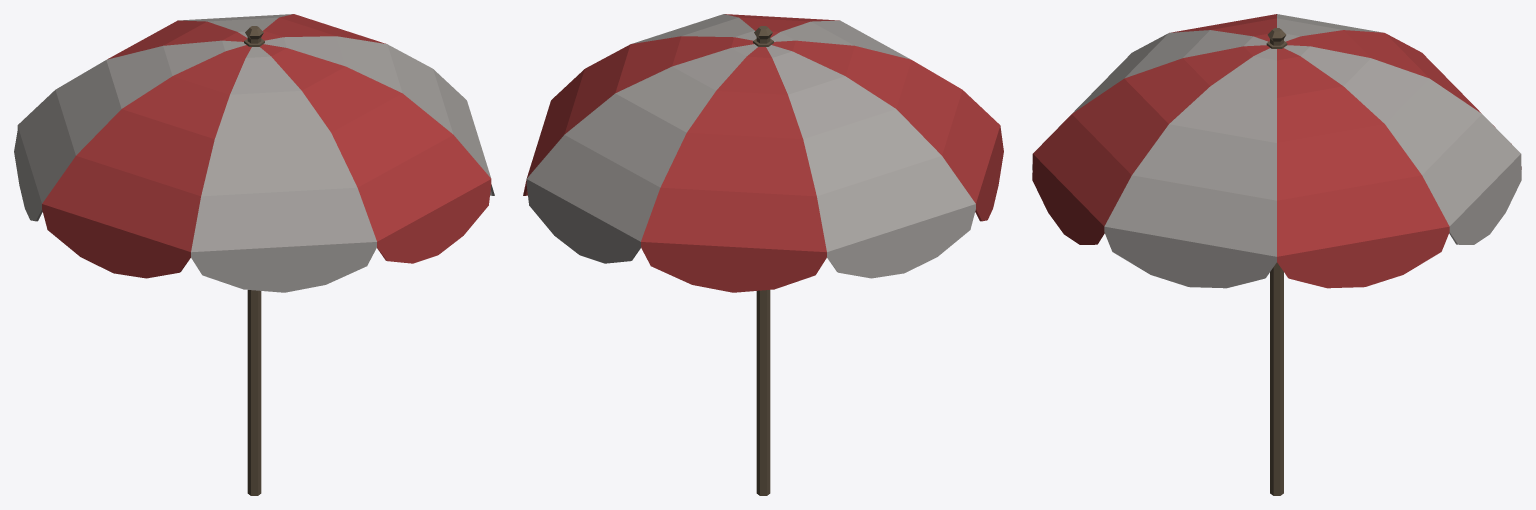
Rendered from SM_Props_City_Beach_Umbrella_02.fbx.
3 views of the same model, side by side, from view 1: azimuth 30°, elevation 25°; view 2: azimuth 150°, elevation 25°; view 3: azimuth 270°, elevation 25° (orthographic).
Parts seen in each view (by area): view 1: SM_Props_City_Beach_Umbrella_02; view 2: SM_Props_City_Beach_Umbrella_02; view 3: SM_Props_City_Beach_Umbrella_02.
Part boxes in pixels (x1=…): SM_Props_City_Beach_Umbrella_02: x1=14, y1=14, x2=494, y2=495; SM_Props_City_Beach_Umbrella_02: x1=523, y1=14, x2=1003, y2=495; SM_Props_City_Beach_Umbrella_02: x1=1032, y1=14, x2=1521, y2=495.
Bounding box in the file's own units: 213 × 223 × 213.
